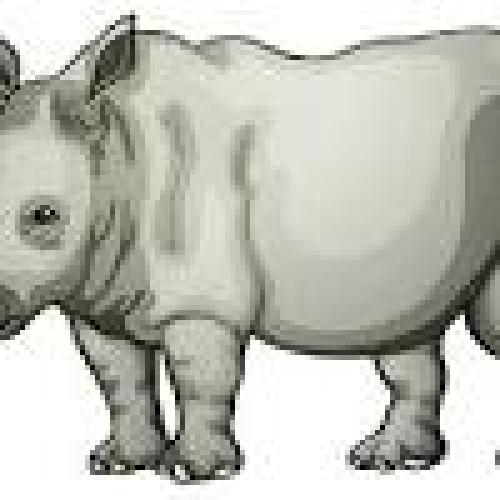rhino-endangered: (1, 29, 500, 473)
